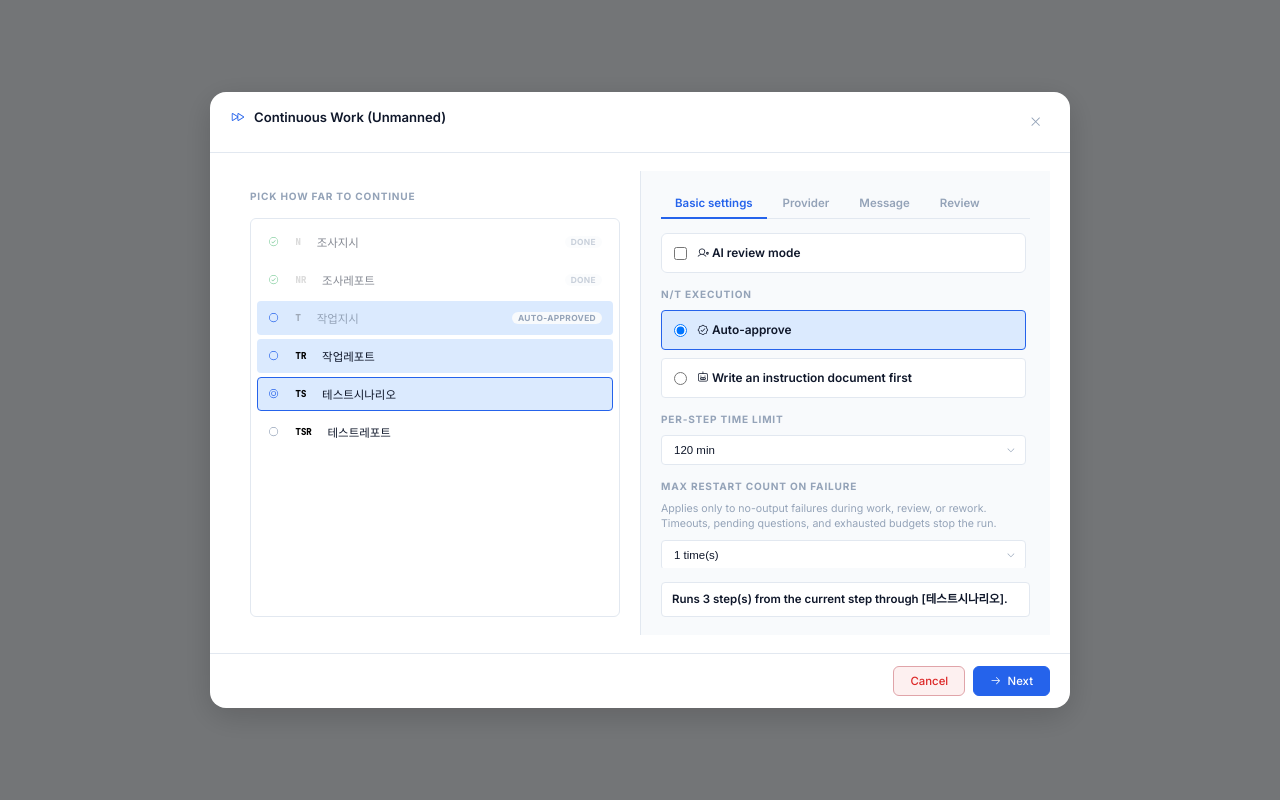
Test: ContinuousWorkDialog › per-item auto-approve within ai_direct (0352 T0004) › shows the auto-approve checkbox only for N/T rows, only under ai_direct
Click the radio button labelled "Write an instruction document first".
click(680, 378)  # box [674, 372, 687, 385]
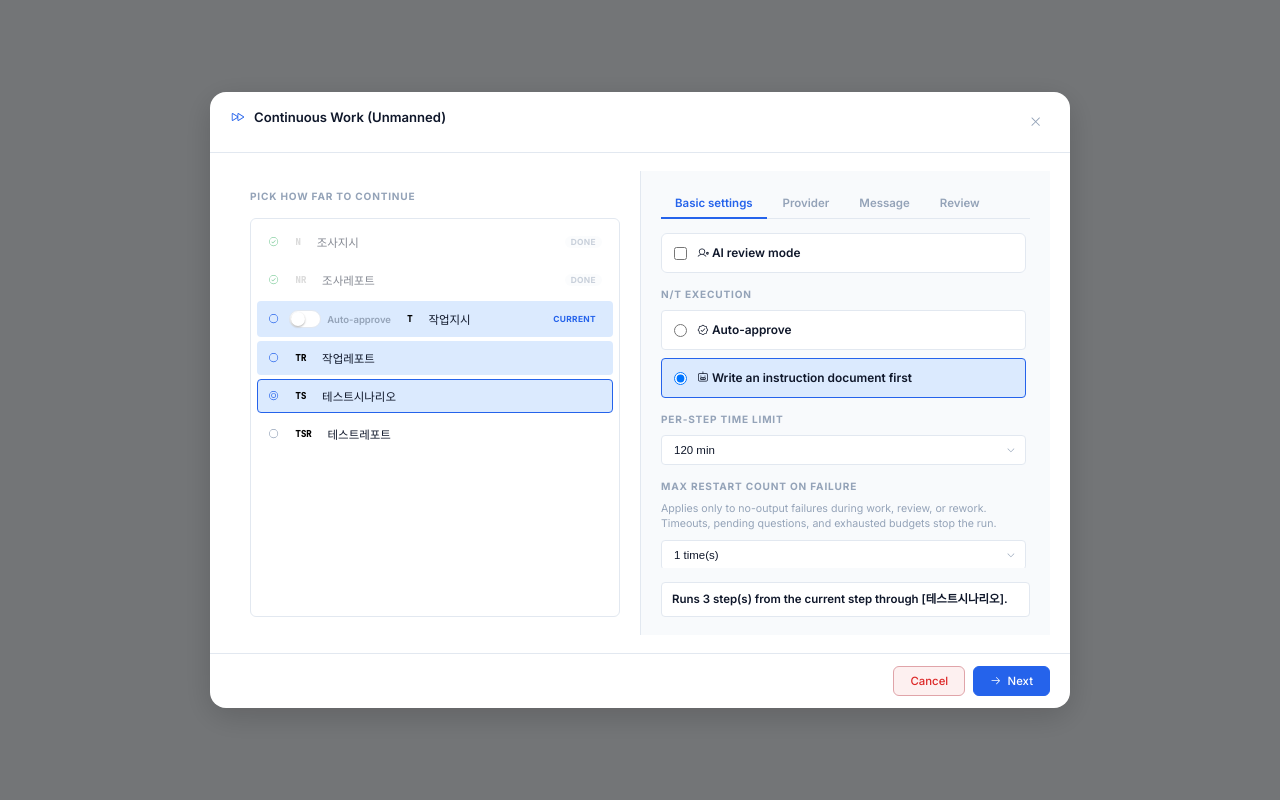
Check: the number of checkboxes with class "wsp-step-auto-toggle" is 1, box [283, 304, 397, 334]
